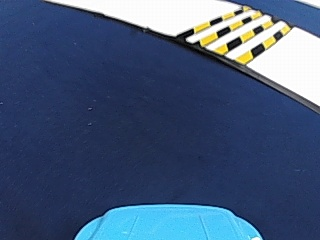bump: (173, 9, 270, 64)
